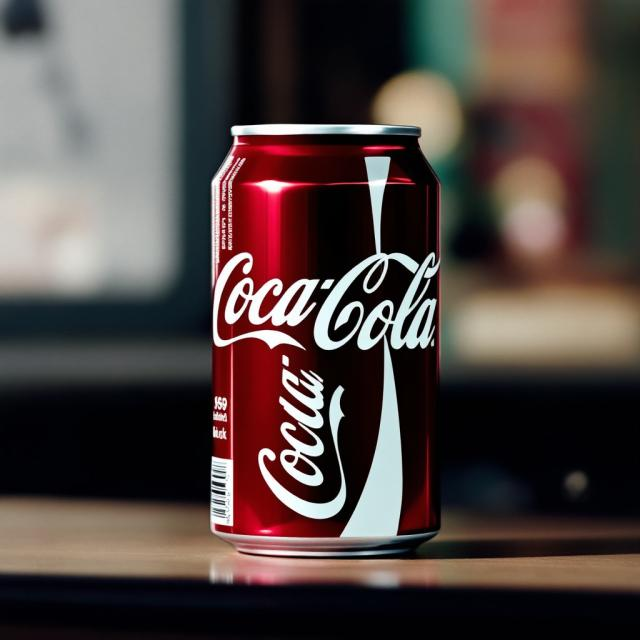cocacola: (191, 99, 458, 574)
